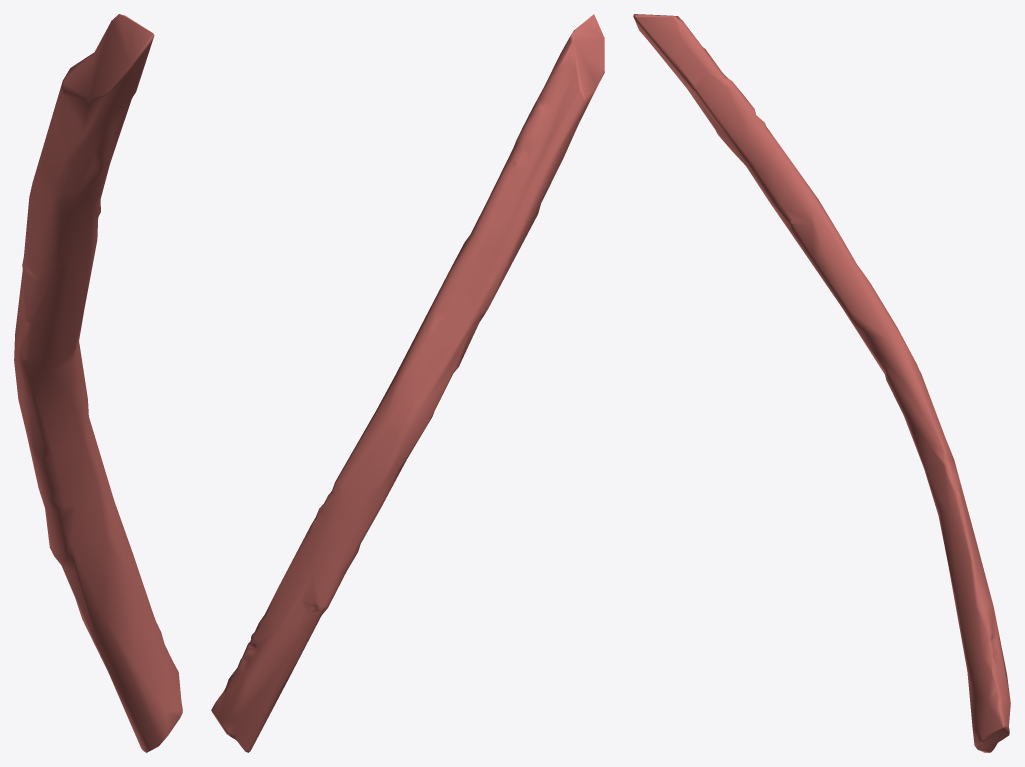
The picture shows the model from 3 angles, left to right: view 1: azimuth 30°, elevation 25°; view 2: azimuth 150°, elevation 25°; view 3: azimuth 270°, elevation 25°; orthographic projection. The views are drawn at different scales.
Visible parts, largest first — view 1: 右侧肛提肌腱弓; view 2: 右侧肛提肌腱弓; view 3: 右侧肛提肌腱弓.
Part boxes in pixels (x1,y1,x2,y2): 右侧肛提肌腱弓: [14, 14, 182, 752]; 右侧肛提肌腱弓: [211, 14, 604, 752]; 右侧肛提肌腱弓: [633, 14, 1010, 752].
Size of the model in its own units: 0.035 by 0.0962 by 0.0502.
